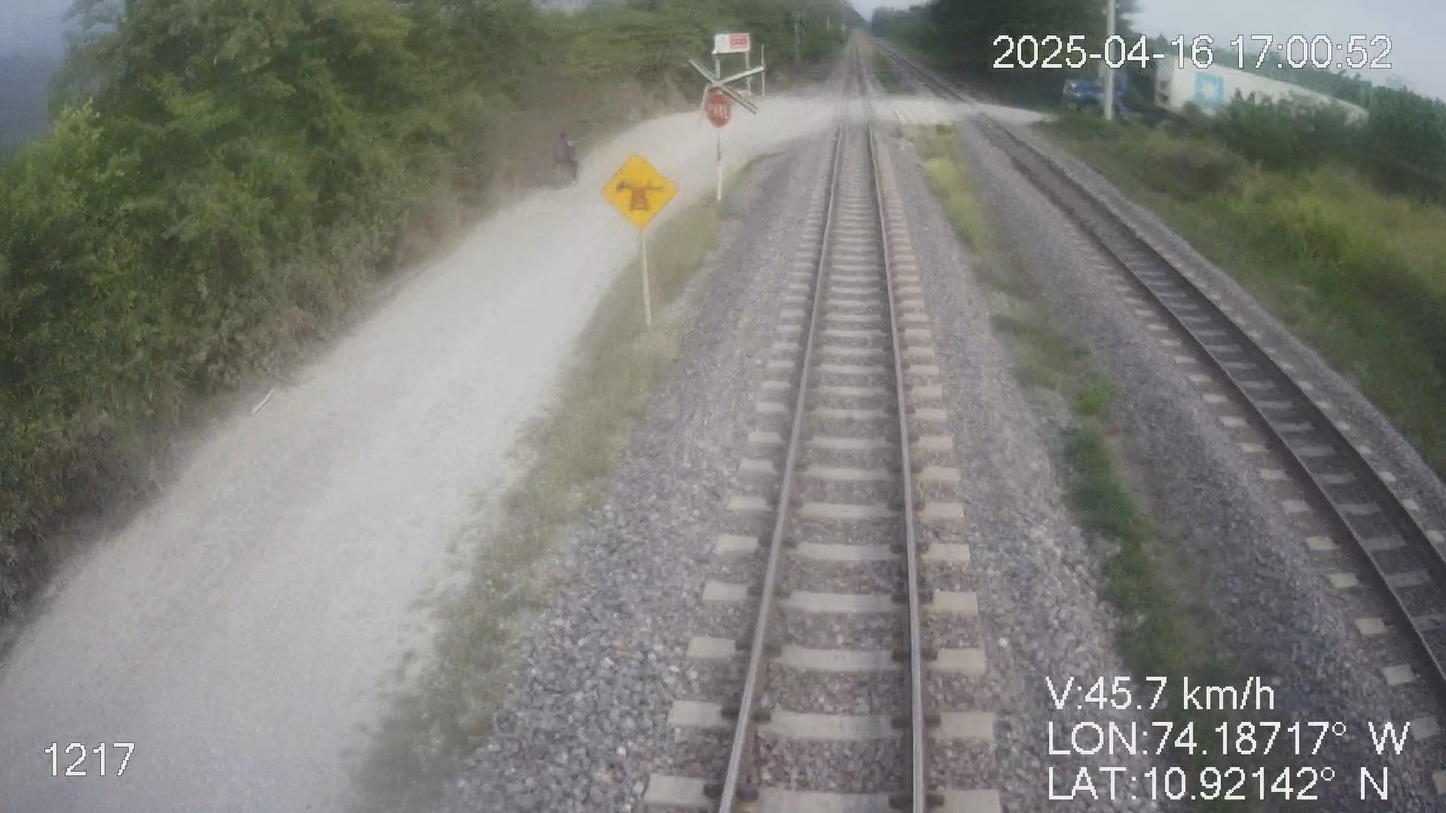Pasto: (0, 0, 844, 635), (1066, 88, 1445, 473)
